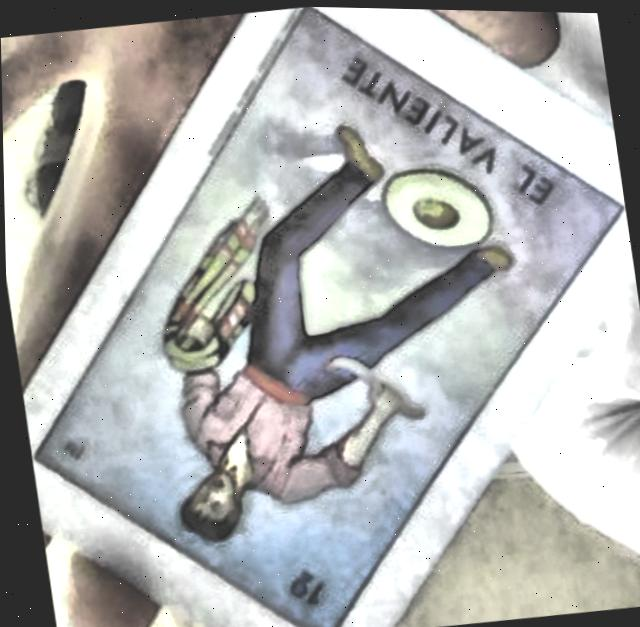El Valiente: (33, 5, 623, 627)
